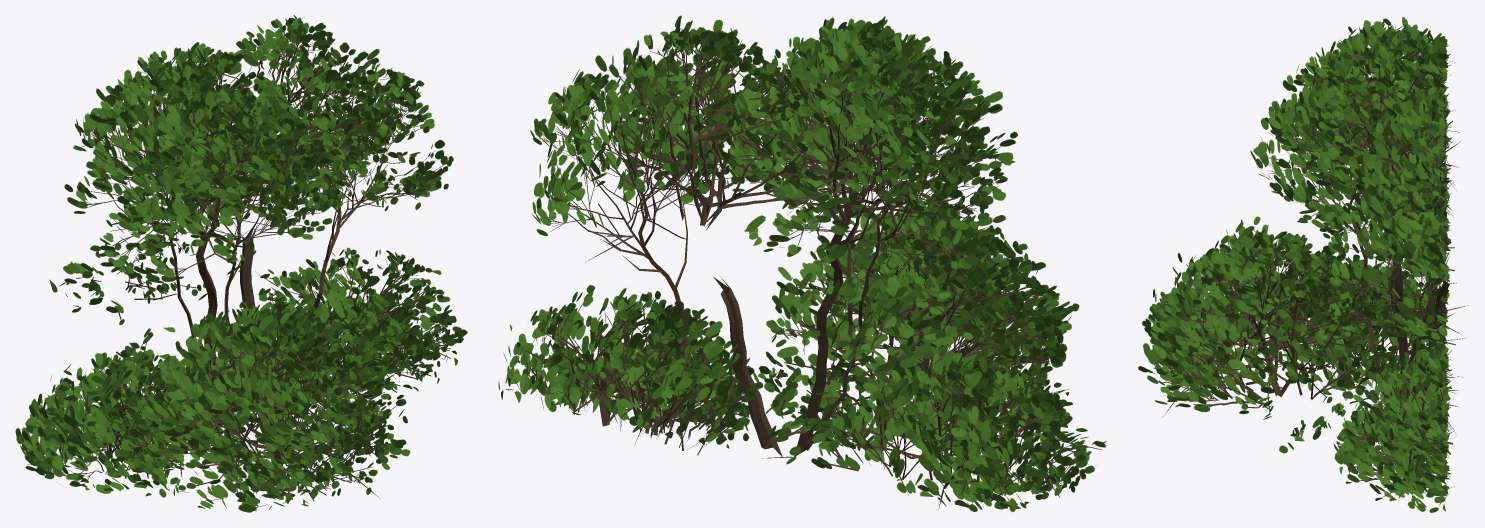
3 views of the same model, side by side, from view 1: azimuth 30°, elevation 25°; view 2: azimuth 150°, elevation 25°; view 3: azimuth 270°, elevation 25° (orthographic). The views are drawn at different scales.
Parts seen in each view (by area): view 1: oak 01.001_trunk_Mat.001_0.173; view 2: oak 01.001_trunk_Mat.001_0.173; view 3: oak 01.001_trunk_Mat.001_0.173.
Part boxes in pixels (box(x1,y1,x2,y2)): oak 01.001_trunk_Mat.001_0.173: box(15, 14, 467, 512); oak 01.001_trunk_Mat.001_0.173: box(498, 15, 1106, 511); oak 01.001_trunk_Mat.001_0.173: box(1138, 16, 1468, 512).
Bounding box in the file's own units: 5.14 × 4.1 × 3.33.
Materials: 2 (1 with a texture image).
